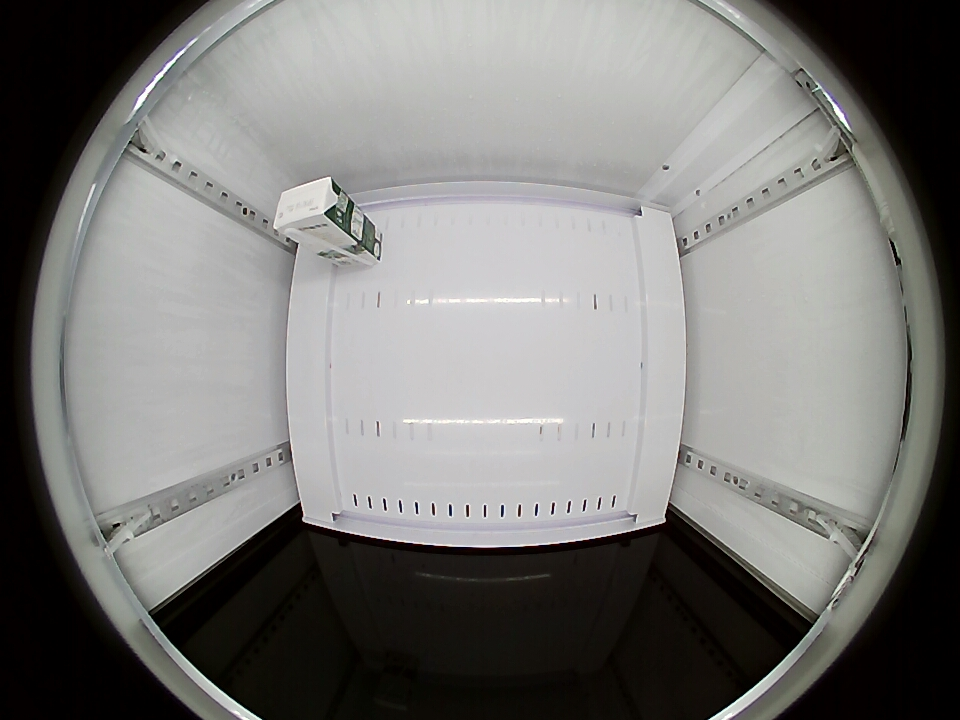jindian: (272, 175, 348, 241)
